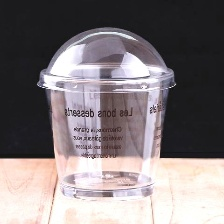glass: (30, 22, 181, 208)
